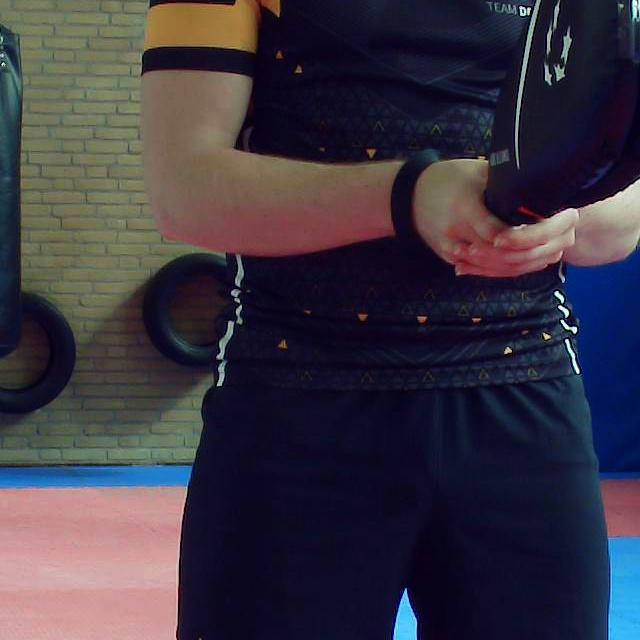paddle: (484, 0, 640, 224)
